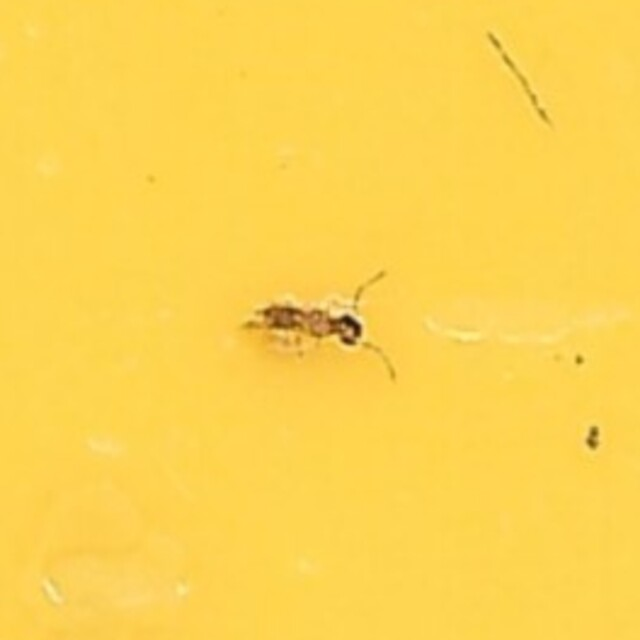Hymenoptera: (242, 263, 398, 377)
